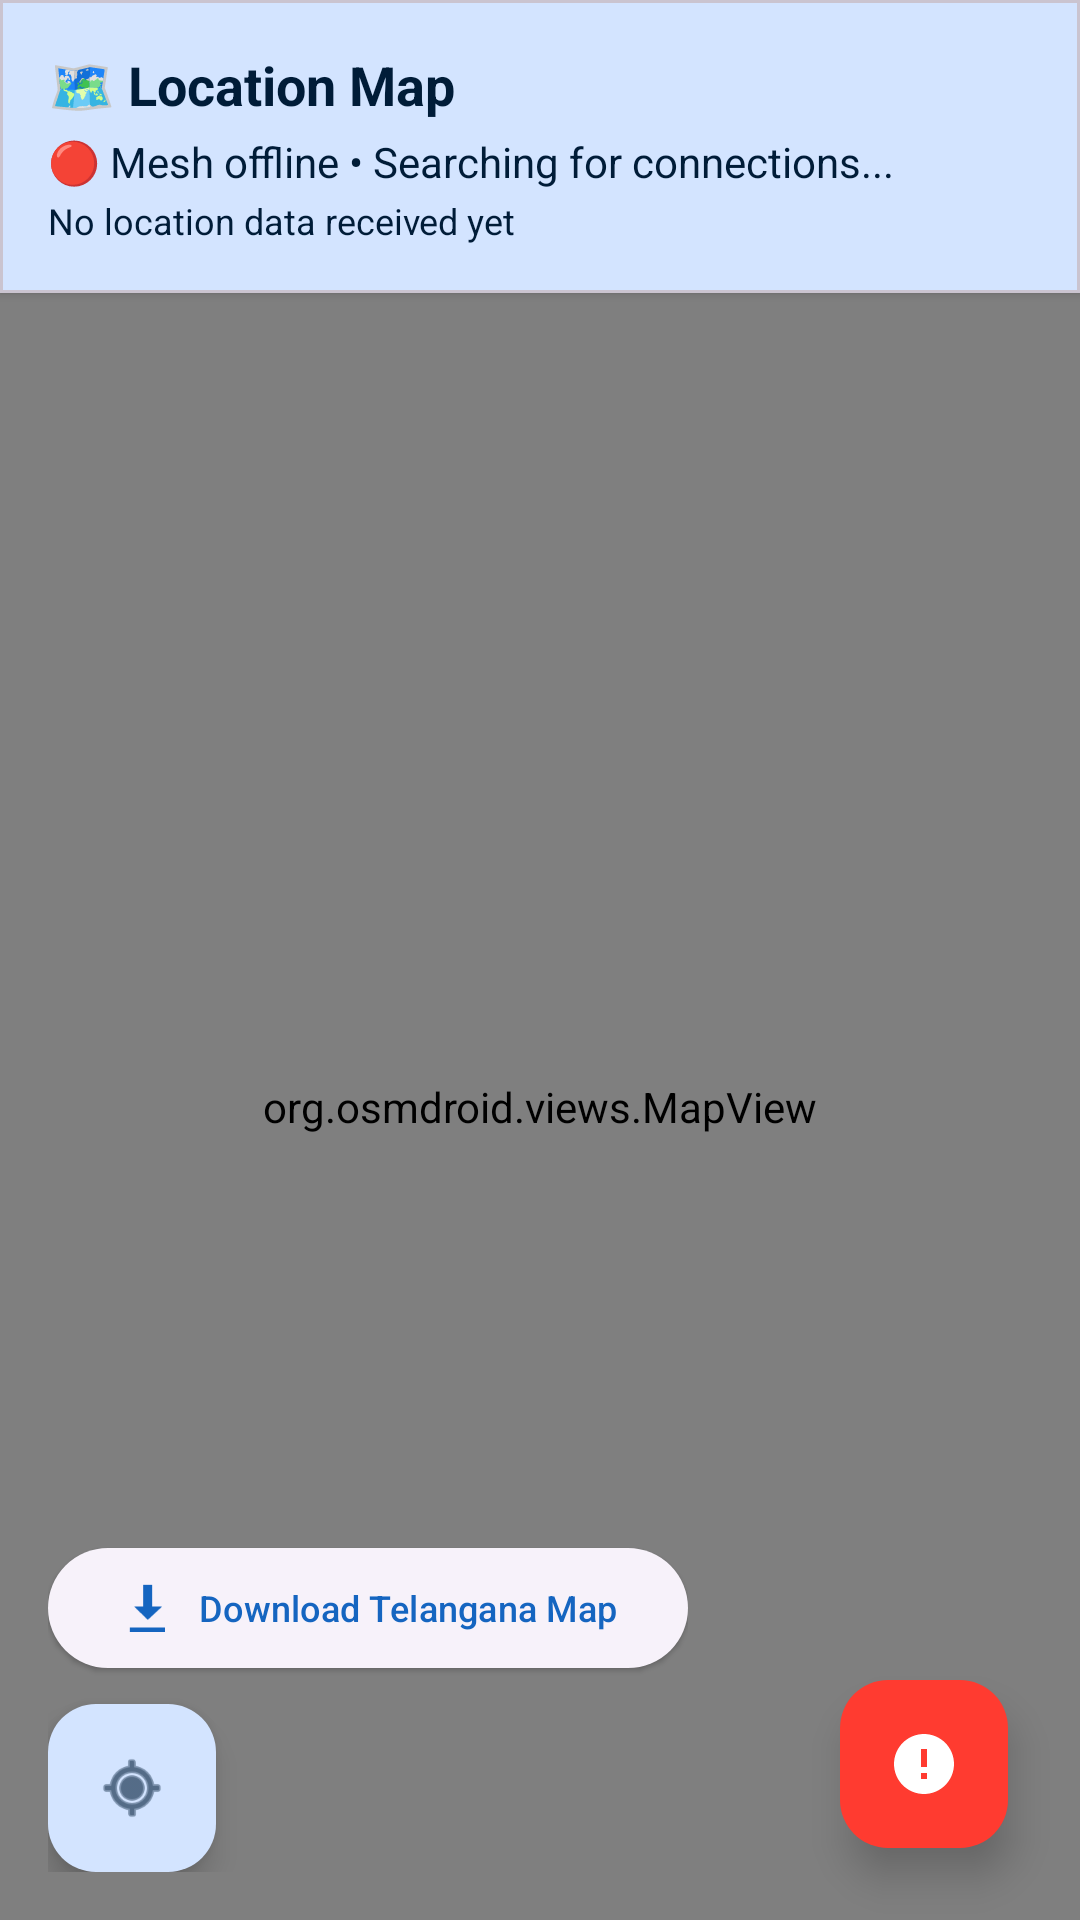

Where to tap for icons on this 1080×1920 app screen, as [x,y]:
Center on my location: [132,1788]
Emergency SOS: [924,1764]
